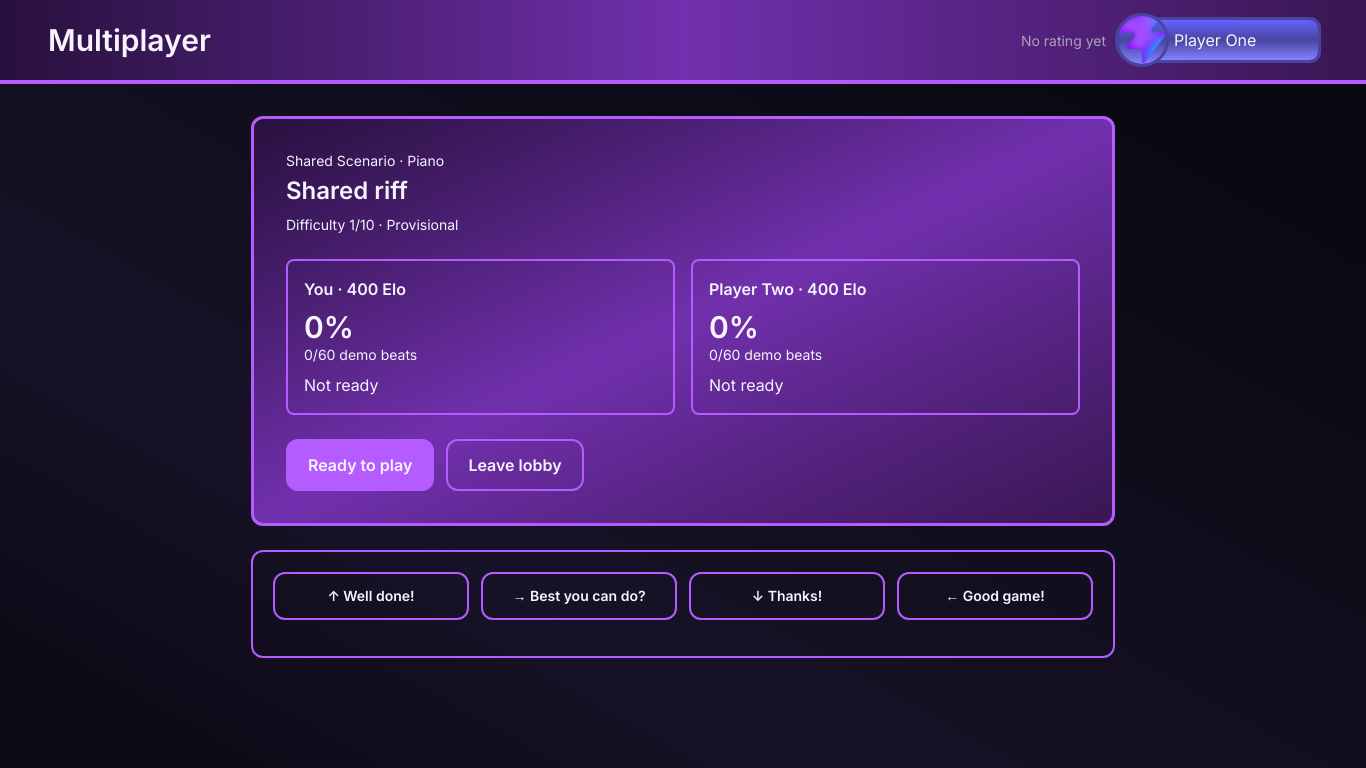
Scenario: returns the leaving player home when abandonment arrives before cancellation completes
Click the button "Leave lobby" at (515, 465), box [446,439,584,491]
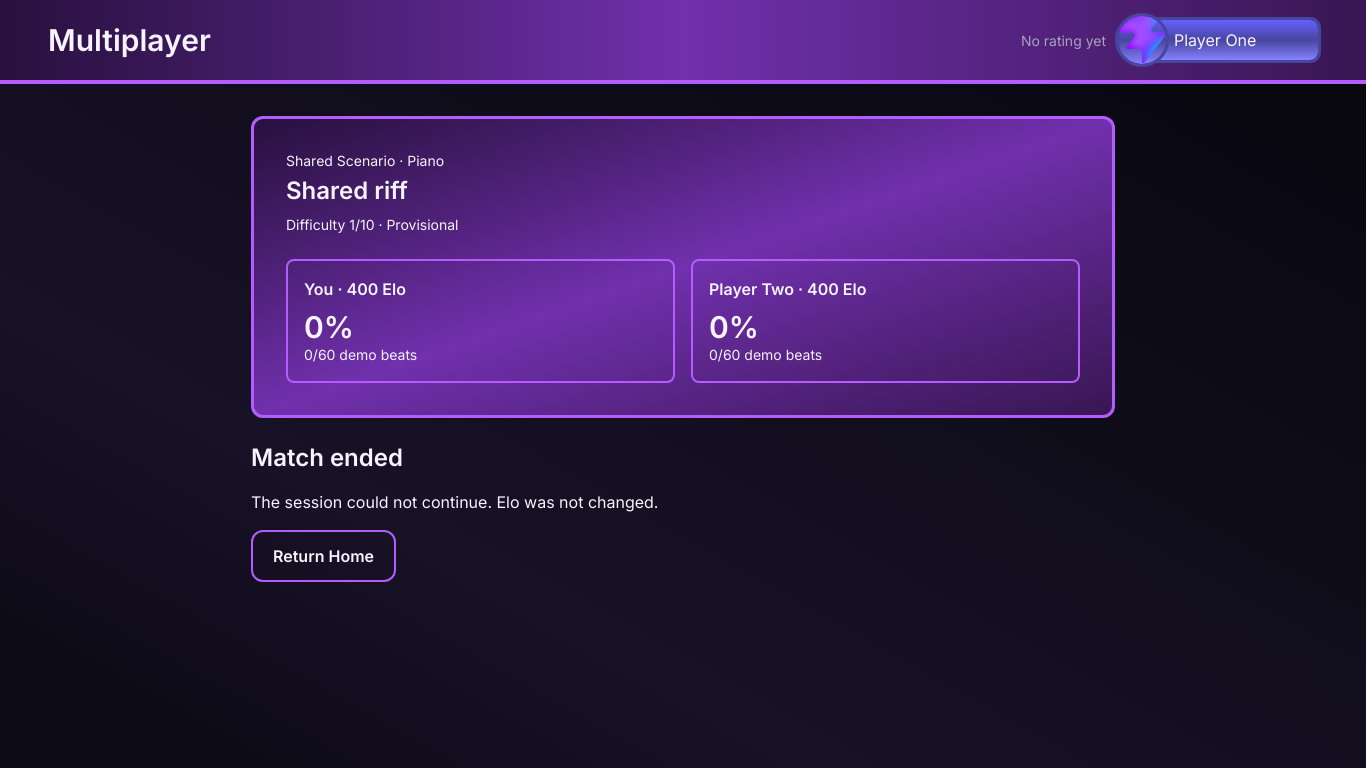
Now the element "Match ended" is shown, box [251,443,658,582]
